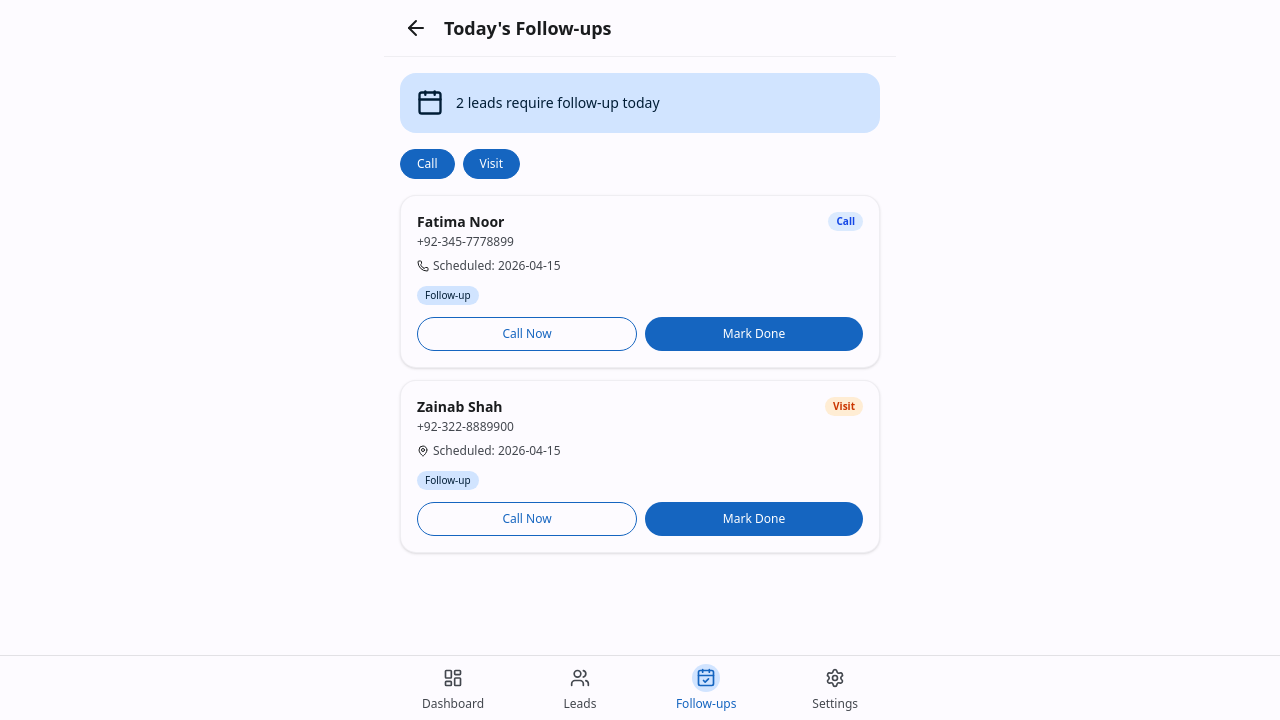
Test: FollowUpsPage › shows confirmation dialog when Mark Done is clicked
Step 1. Click the button "Mark Done" below "+92-345-7778899" → (754, 334), box [645,317,863,351]
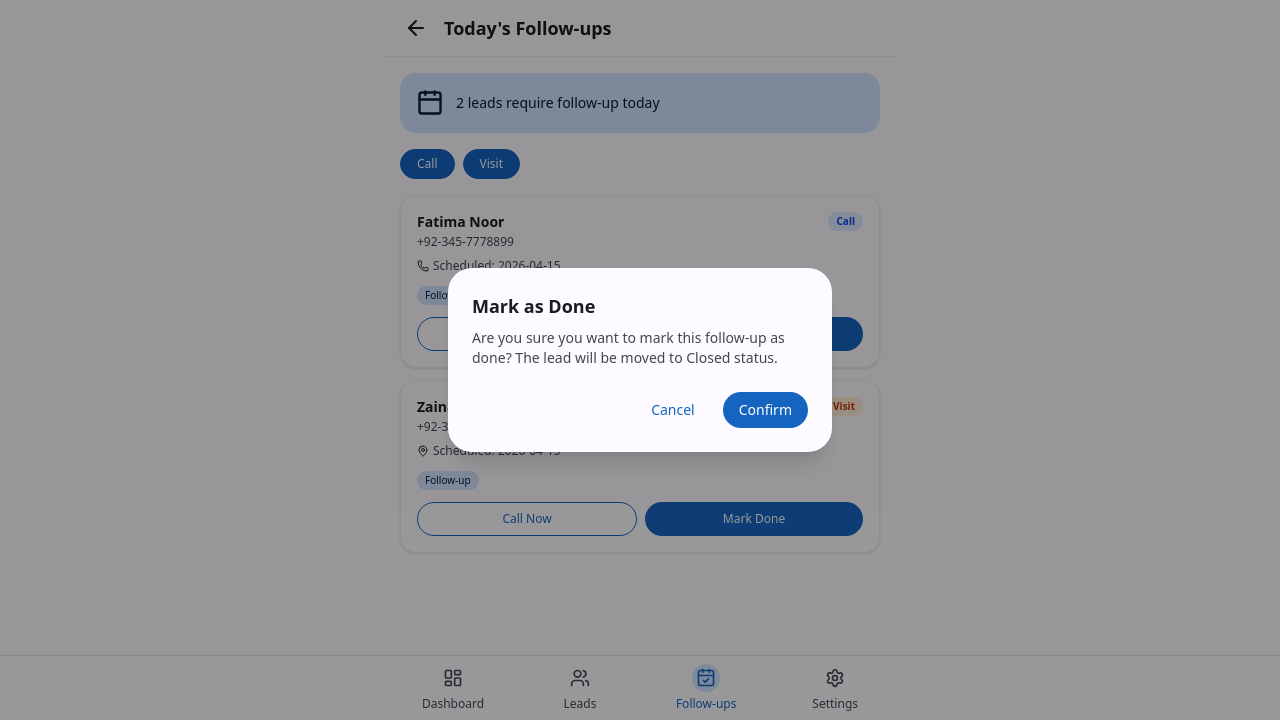
Result: the heading "Mark as Done" is shown at [472,294,595,318]
